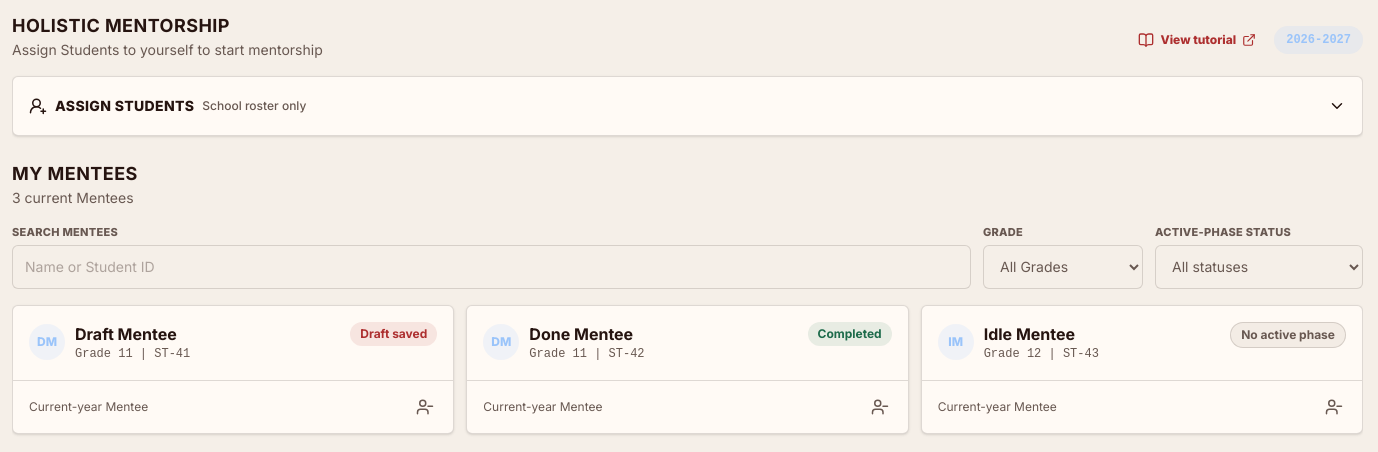
Test: TeacherMappingWorkspace › filters My Mentees by Active-Phase status
expect the text "3 current Mentees" is shown: met, box [12,189,134,206]
Select "Completed" in the dropdown labelled "Active-Phase status" at (1259, 266), box [1155,244,1363,288]
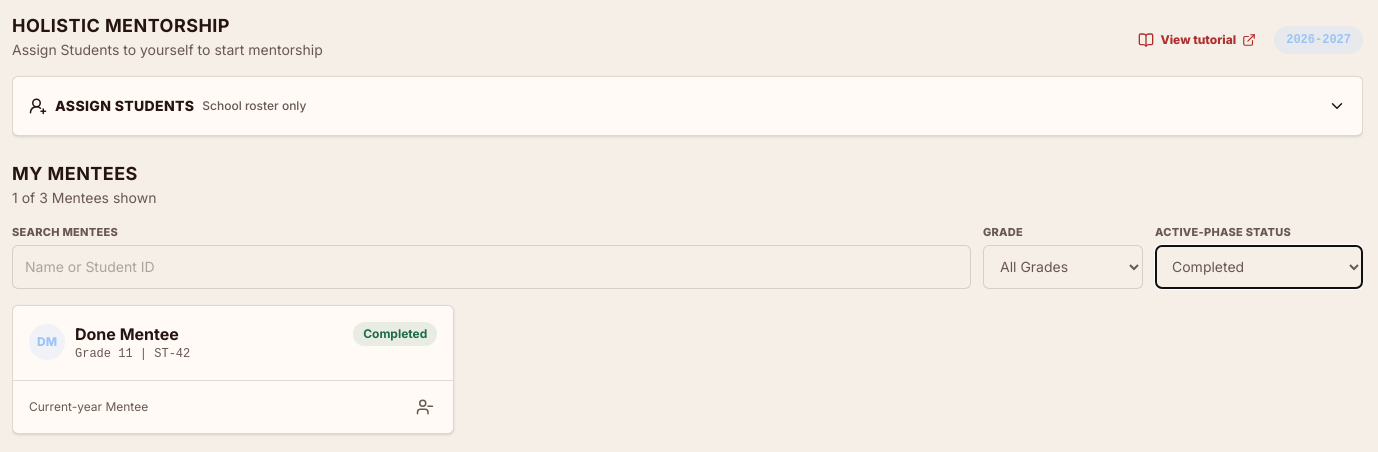
expect the text "Done Mentee" is shown: met, box [75,322,190,346]
expect the text "1 of 3 Mentees shown" is shown: met, box [12,189,156,206]
expect the link "Draft Mentee" is gone: met
